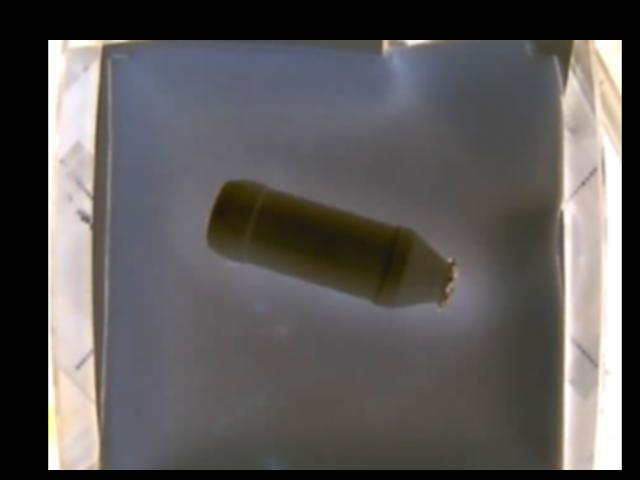Bottle: (206, 178, 457, 311)
